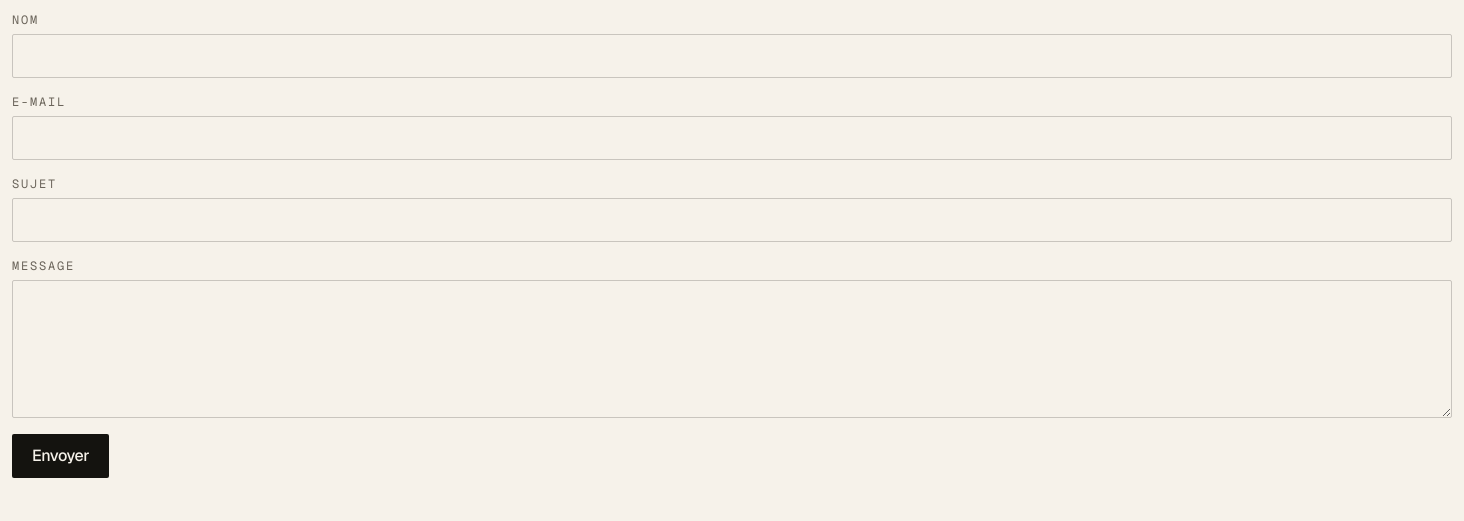
Scenario: ContactForm › valide le format de l'e-mail
In the field labelled "Nom": (732, 56) [12,34,1452,78], type "Alice"
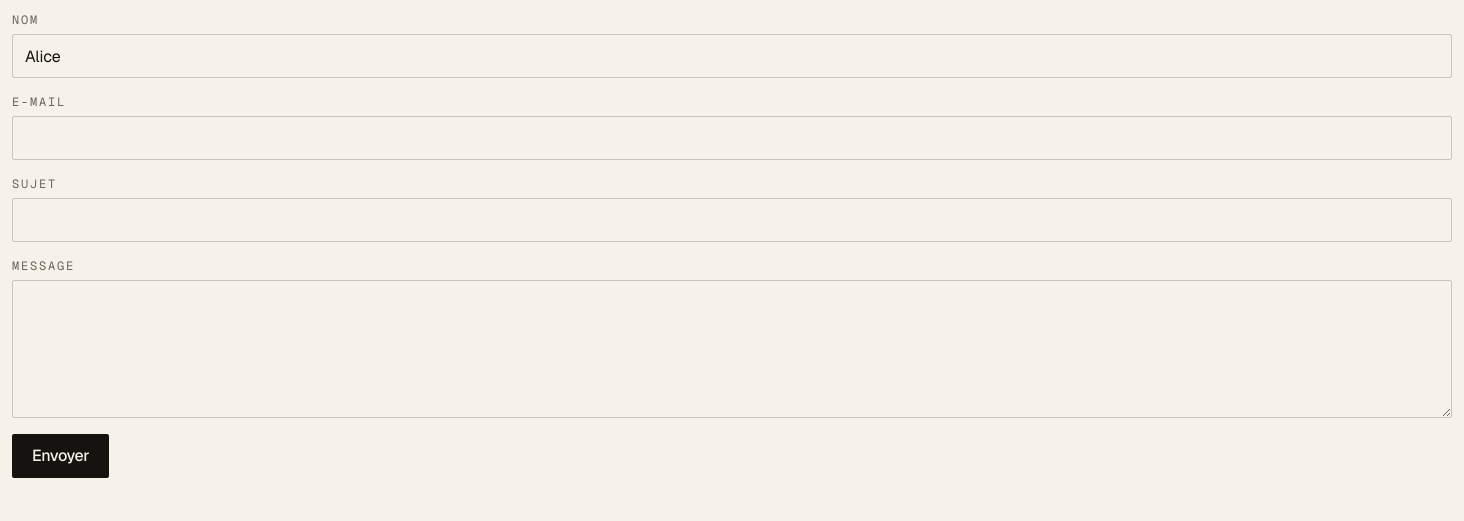
In the field labelled "E-mail": (732, 138) [12,116,1452,160], type "invalide"
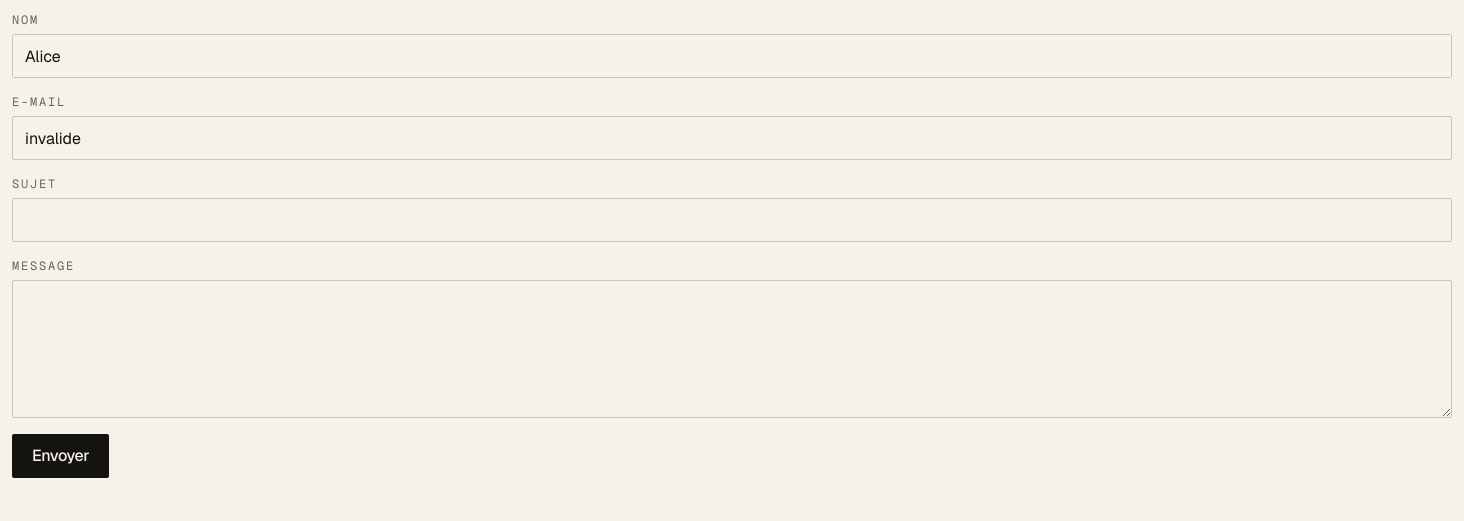
In the text box labelled "Message": (732, 349) [12,280,1452,418], type "Bonjour"
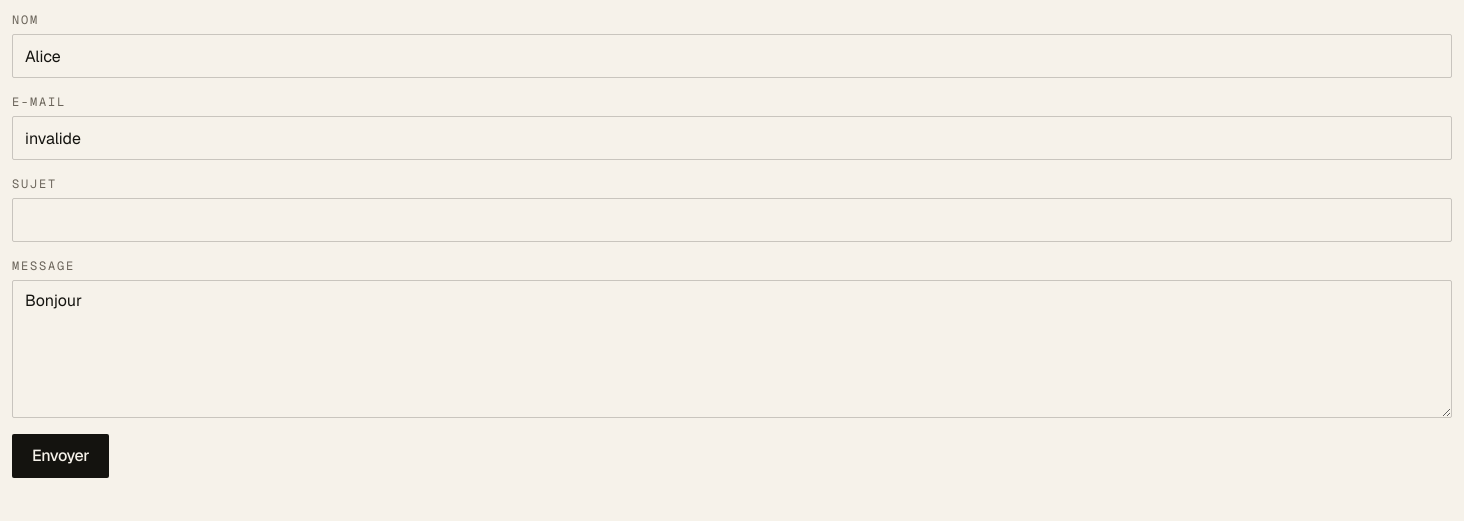
Click the button "Envoyer": (61, 456) [12,434,109,478]
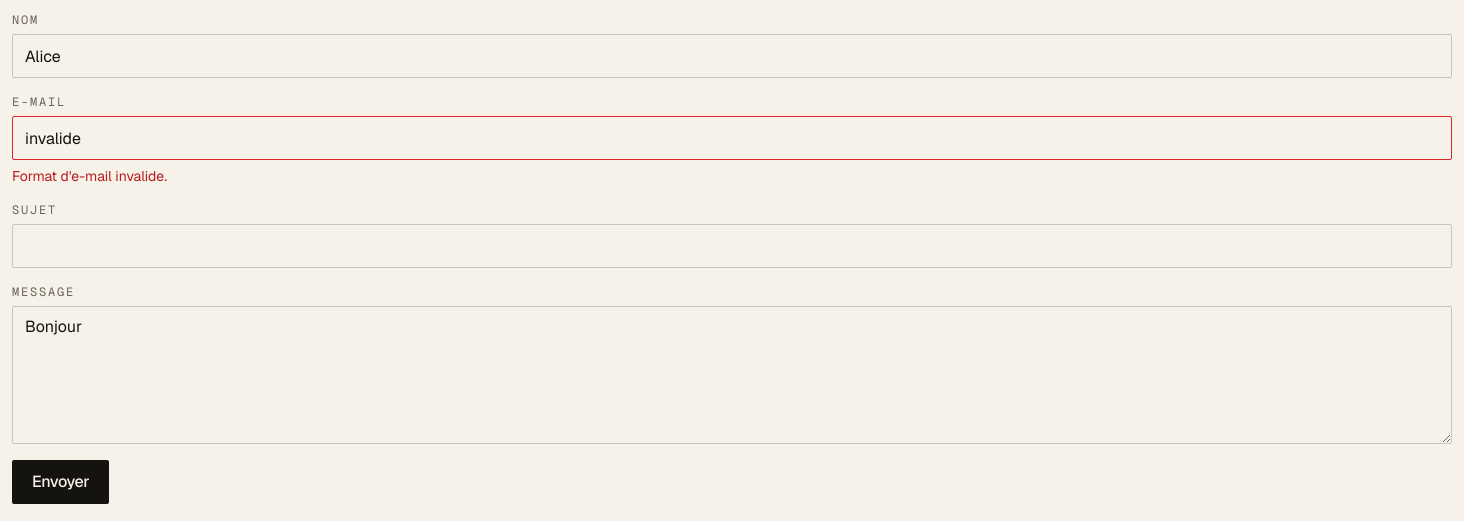
Check: the text "Format d'e-mail invalide." is shown, box [12,167,167,185]
